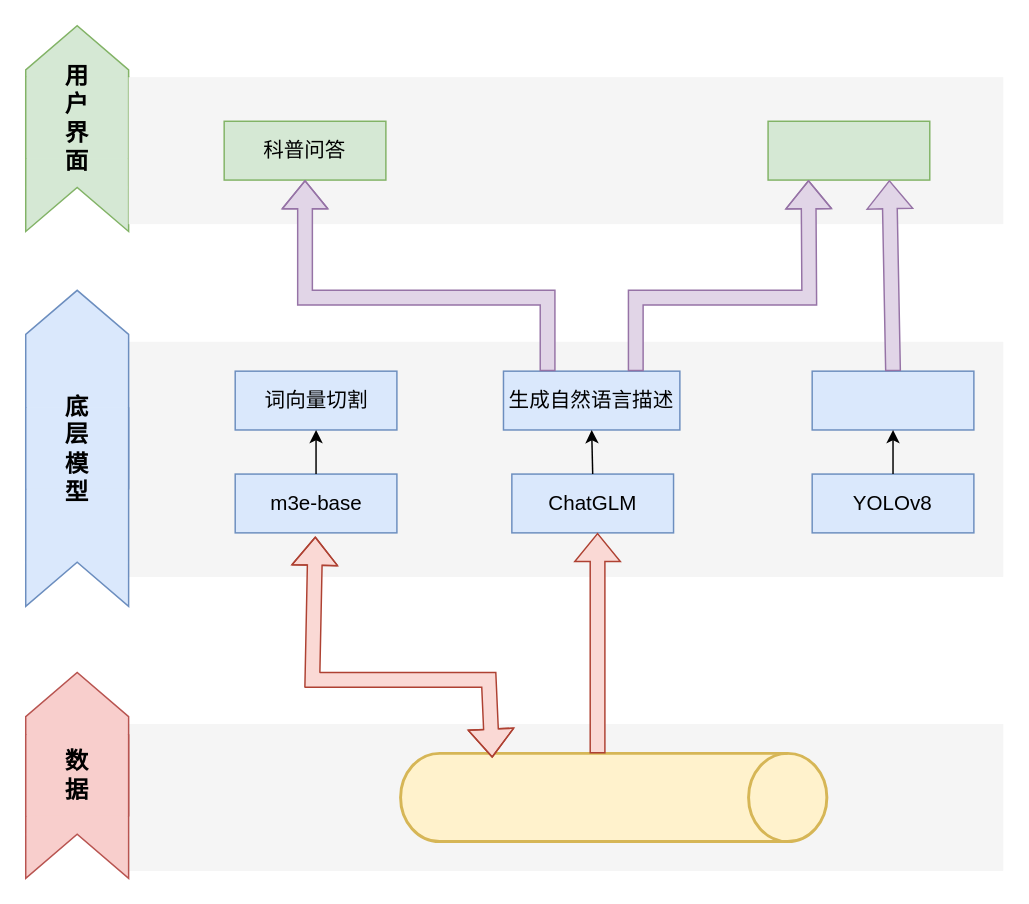
This 1029x904 diagram has some shape labels left out. Each missing label, with the centre of its shape:
"图片科普" goes at (848,150).
"自定义知识库" goes at (613,796).
"识别鸟类种类" goes at (892,400).
